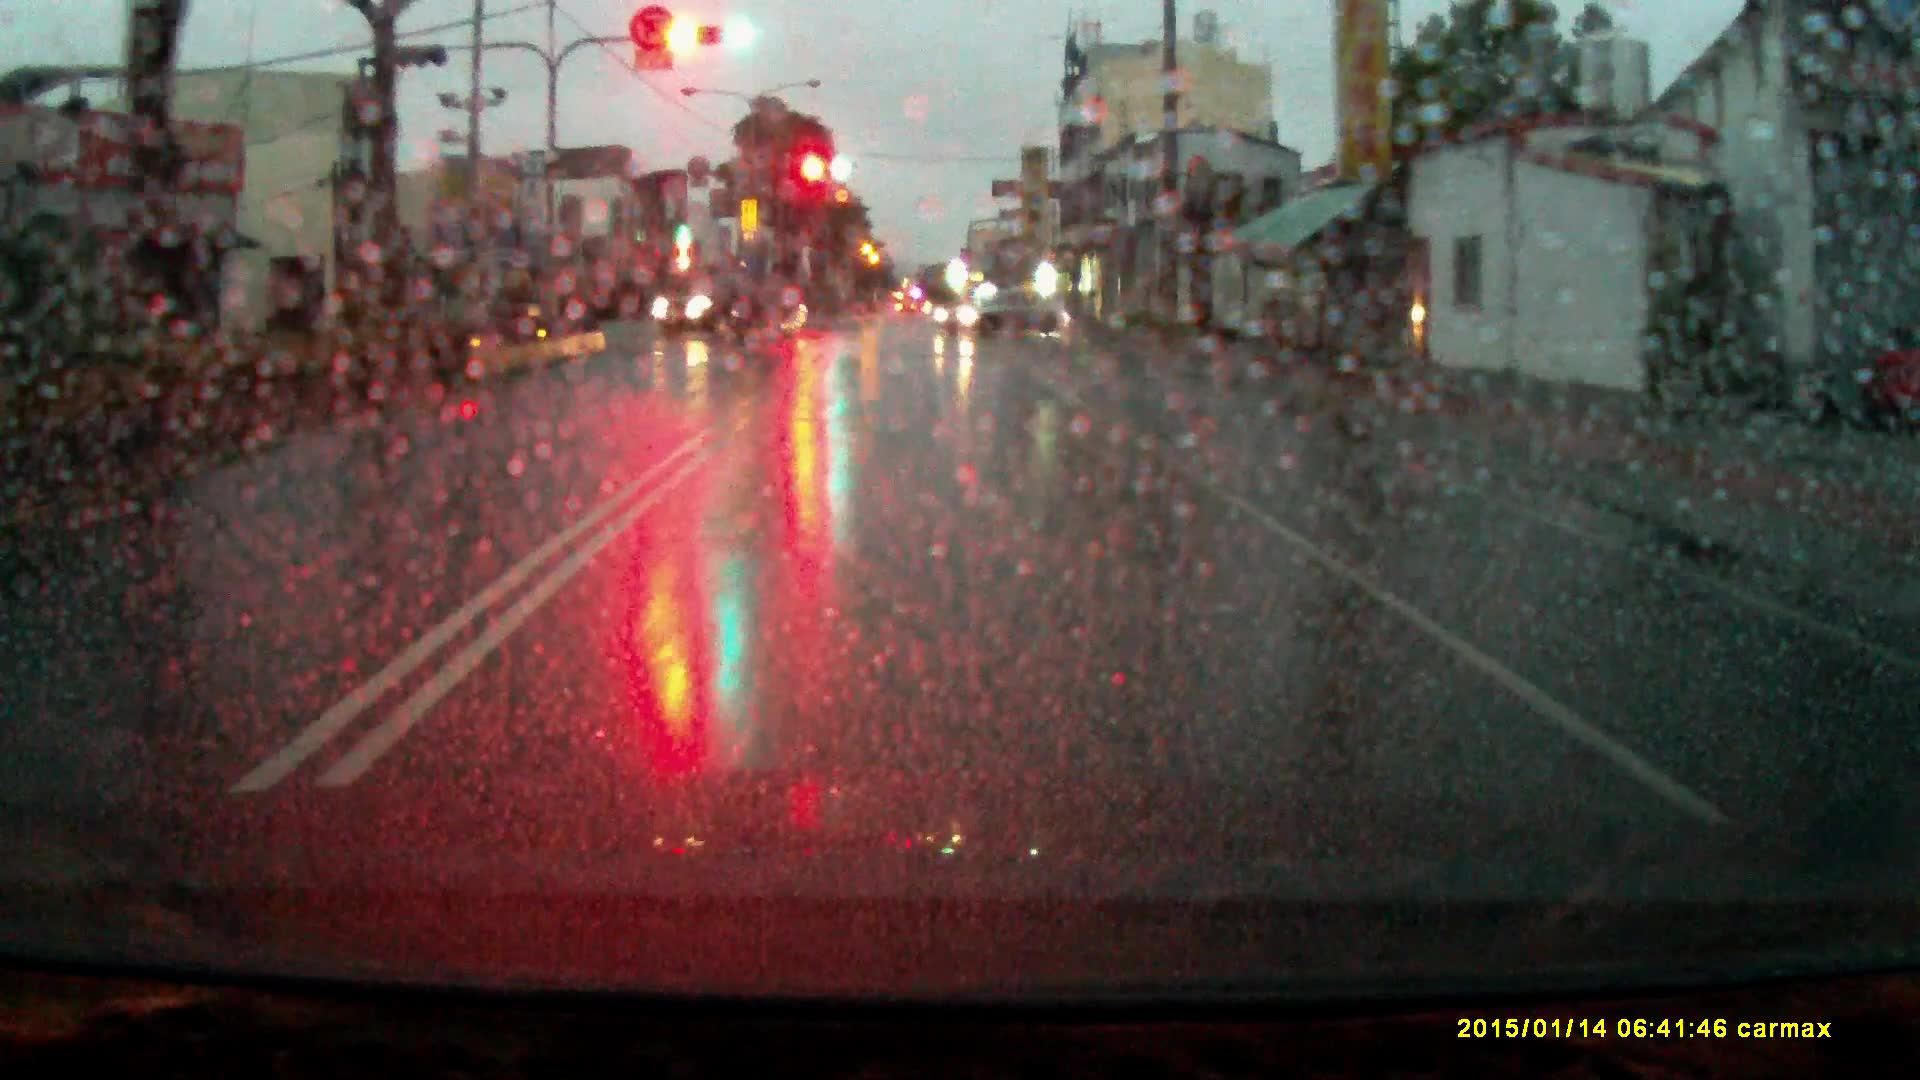vehicle: (651, 274, 810, 342), (924, 289, 1065, 338)
